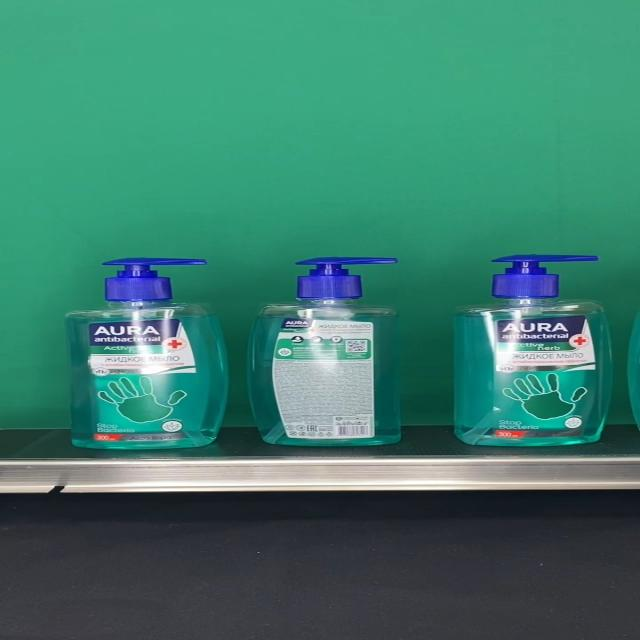Bottle: (64, 258, 228, 450), (452, 256, 612, 447), (249, 257, 403, 446)
Cap: (490, 255, 600, 298), (104, 258, 208, 302), (294, 257, 398, 299)
